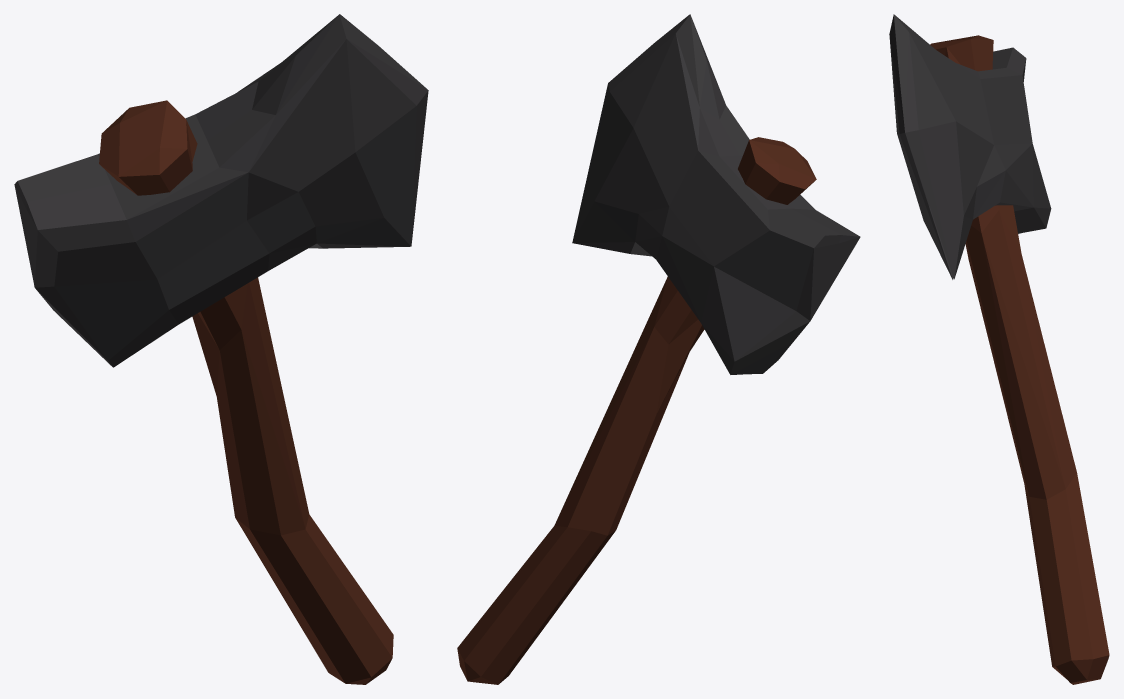
The model's file is T@Axe Idle.FBX.
The picture shows the model from 3 angles, left to right: view 1: azimuth 30°, elevation 25°; view 2: azimuth 150°, elevation 25°; view 3: azimuth 270°, elevation 25°; orthographic projection. The views are drawn at different scales.
Parts seen in each view (by area): view 1: axe; view 2: axe; view 3: axe.
Part boxes in pixels (x1=…): axe: x1=14, y1=14, x2=428, y2=684; axe: x1=457, y1=14, x2=860, y2=684; axe: x1=889, y1=14, x2=1109, y2=684.
Bounding box in the file's own units: 26.82 × 15.36 × 47.5.
